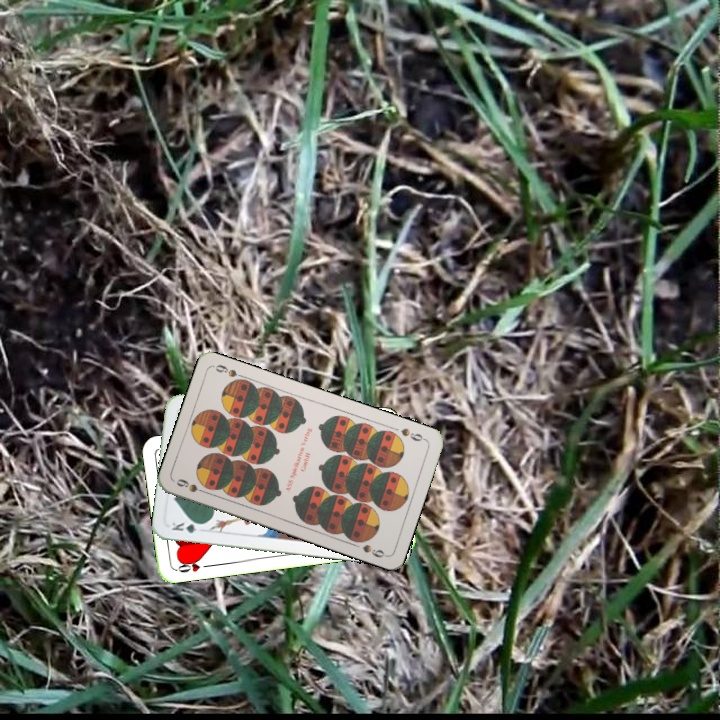GK: (168, 518, 207, 535)
HO: (172, 555, 213, 575)
S9: (172, 475, 211, 497), (397, 424, 429, 444)
